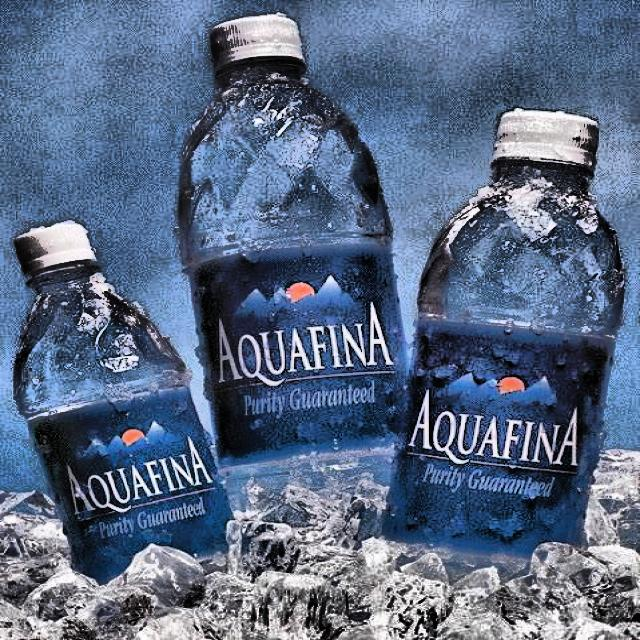Bottles: (167, 14, 419, 494), (390, 104, 632, 576), (13, 220, 228, 573)
